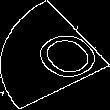O_SE: (10, 22, 100, 88)
